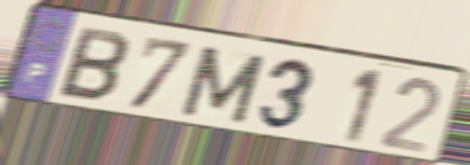1: (345, 66, 387, 146)
2: (376, 75, 444, 156)
3: (254, 56, 317, 135)
7: (129, 33, 198, 113)
B: (53, 23, 132, 106)
M: (176, 42, 270, 127)
